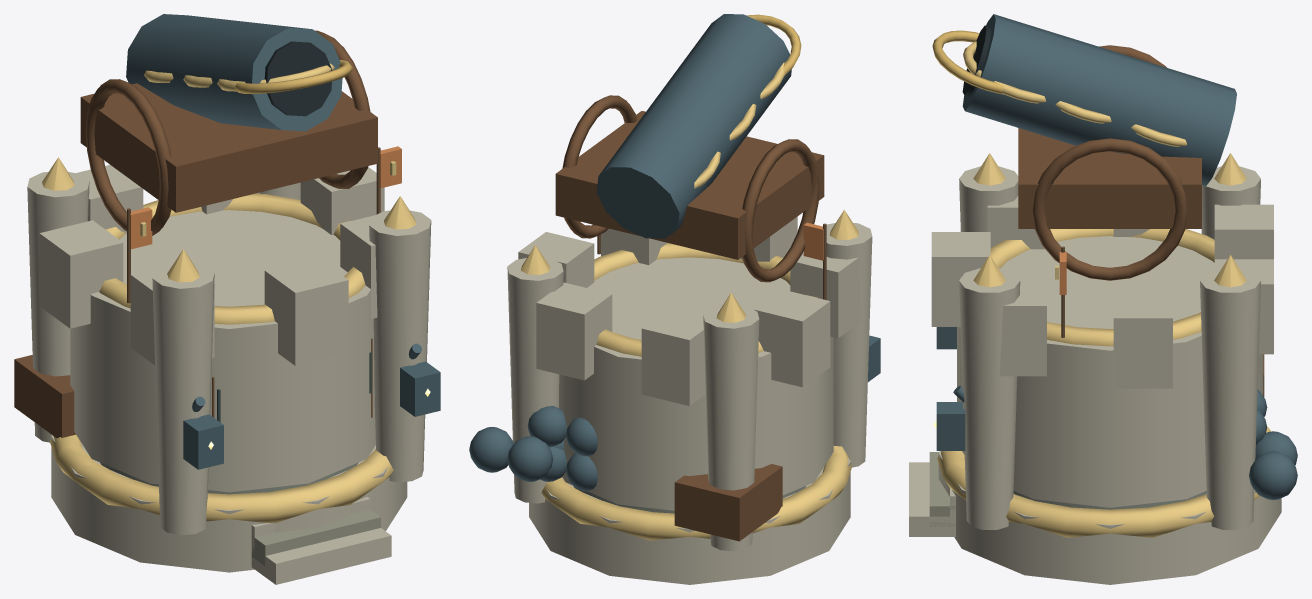
The model's file is tower-cannon-3-base.glb.
3 renders of one model, left to right at view 1: azimuth 30°, elevation 25°; view 2: azimuth 150°, elevation 25°; view 3: azimuth 270°, elevation 25°, orthographic. The views are drawn at different scales.
Parts seen in each view (by area): view 1: Foundation, Turret, cannon-L3-base; view 2: Foundation, Turret, cannon-L3-base; view 3: Foundation, Turret, cannon-L3-base.
Boxes of the visible parts, bbox=[...] form: Foundation: bbox=[14, 146, 440, 584]; Turret: bbox=[80, 14, 377, 235]; cannon-L3-base: bbox=[51, 435, 407, 572]; Foundation: bbox=[469, 210, 880, 551]; Turret: bbox=[555, 14, 824, 282]; cannon-L3-base: bbox=[529, 456, 850, 584]; Foundation: bbox=[909, 153, 1297, 537]; Turret: bbox=[932, 14, 1236, 280]; cannon-L3-base: bbox=[938, 451, 1281, 584].
Bounding box in the file's own units: 1.71 × 2.67 × 1.91.
